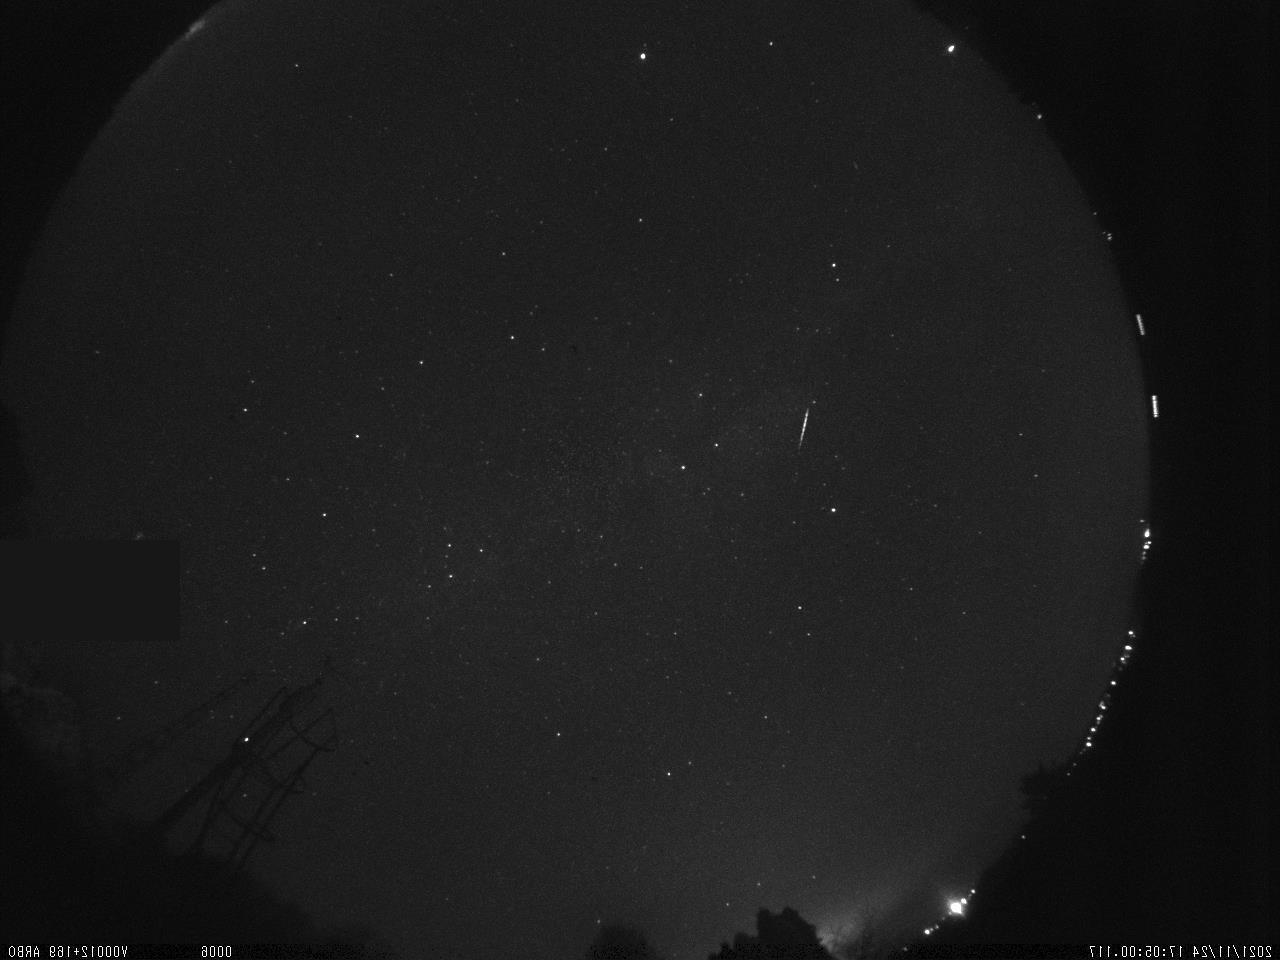meteor: (784, 399, 826, 458)
